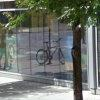Bicycle: (31, 34, 67, 72)
